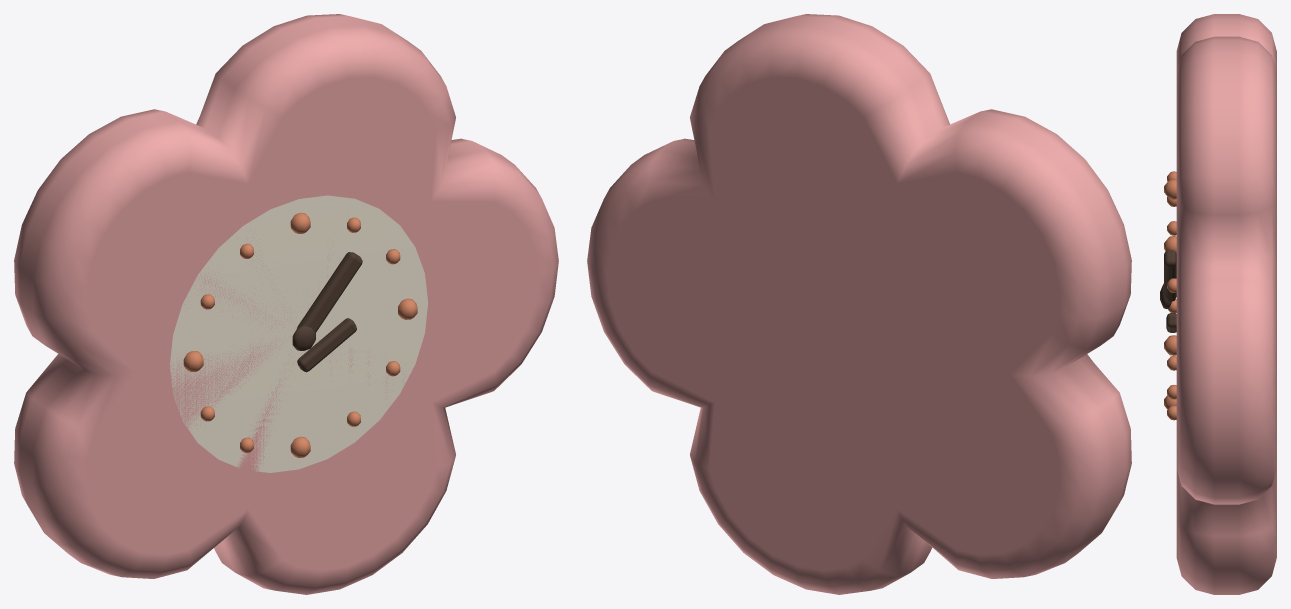
The model's file is blossom_wall_clock.glb.
3 views of the same model, side by side, from view 1: azimuth 30°, elevation 25°; view 2: azimuth 150°, elevation 25°; view 3: azimuth 270°, elevation 25° (orthographic). The views are drawn at different scales.
Parts seen in each view (by area): view 1: blossom_wall_clock_mesh; view 2: blossom_wall_clock_mesh; view 3: blossom_wall_clock_mesh.
Boxes of the visible parts, box(x1,y1,x2,y2) form: blossom_wall_clock_mesh: box(14, 14, 558, 594); blossom_wall_clock_mesh: box(587, 14, 1131, 594); blossom_wall_clock_mesh: box(1160, 14, 1276, 594).
Bounding box in the file's own units: 0.4557 × 0.4676 × 0.0931.
